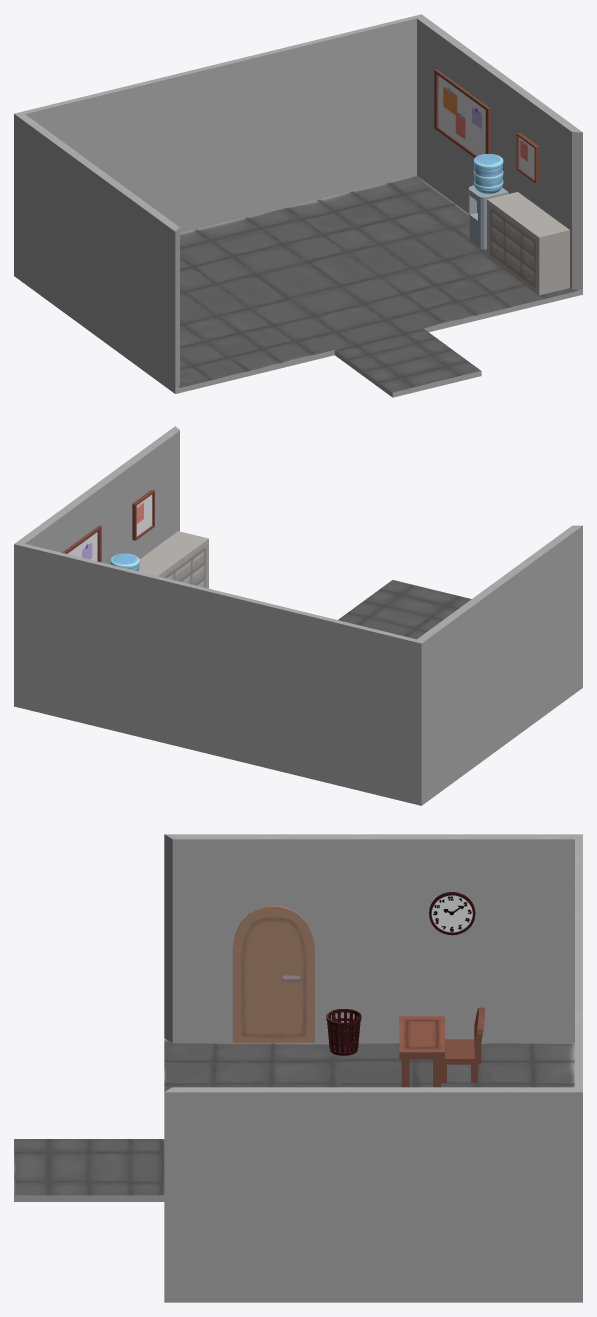
File: PoliceInteria.glb
3 renders of one model, top to bottom at view 1: azimuth 30°, elevation 25°; view 2: azimuth 150°, elevation 25°; view 3: azimuth 270°, elevation 25°, orthographic. The views are drawn at different scales.
Parts seen in each view (by area): view 1: wall, shelve, photo, water, photo2; view 2: wall, shelve, photo2, photo; view 3: wall, door, desk, clock, chair, bin.
Boxes of the visible parts, x1,y1,x2,y2 form: wall: [14, 14, 582, 397]; shelve: [487, 192, 569, 295]; photo: [434, 69, 490, 157]; water: [468, 154, 508, 249]; photo2: [516, 132, 539, 183]; wall: [14, 426, 582, 805]; shelve: [139, 531, 208, 588]; photo2: [132, 490, 154, 540]; photo: [62, 525, 101, 562]; wall: [14, 834, 582, 1302]; door: [232, 906, 314, 1042]; desk: [399, 1016, 444, 1087]; clock: [429, 892, 475, 935]; chair: [441, 1007, 484, 1082]; bin: [326, 1009, 361, 1055].
Size of the model in its own units: 26.42 by 10.05 by 24.63.
1 material, 1 textured.
